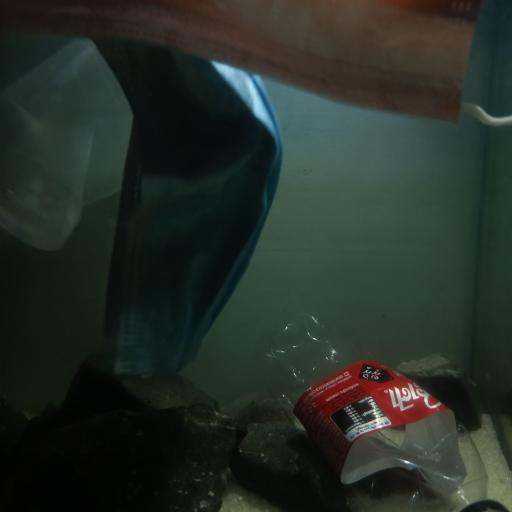mask: (0, 33, 282, 368), (0, 0, 512, 132)
plastic_bottle: (255, 308, 509, 512)
